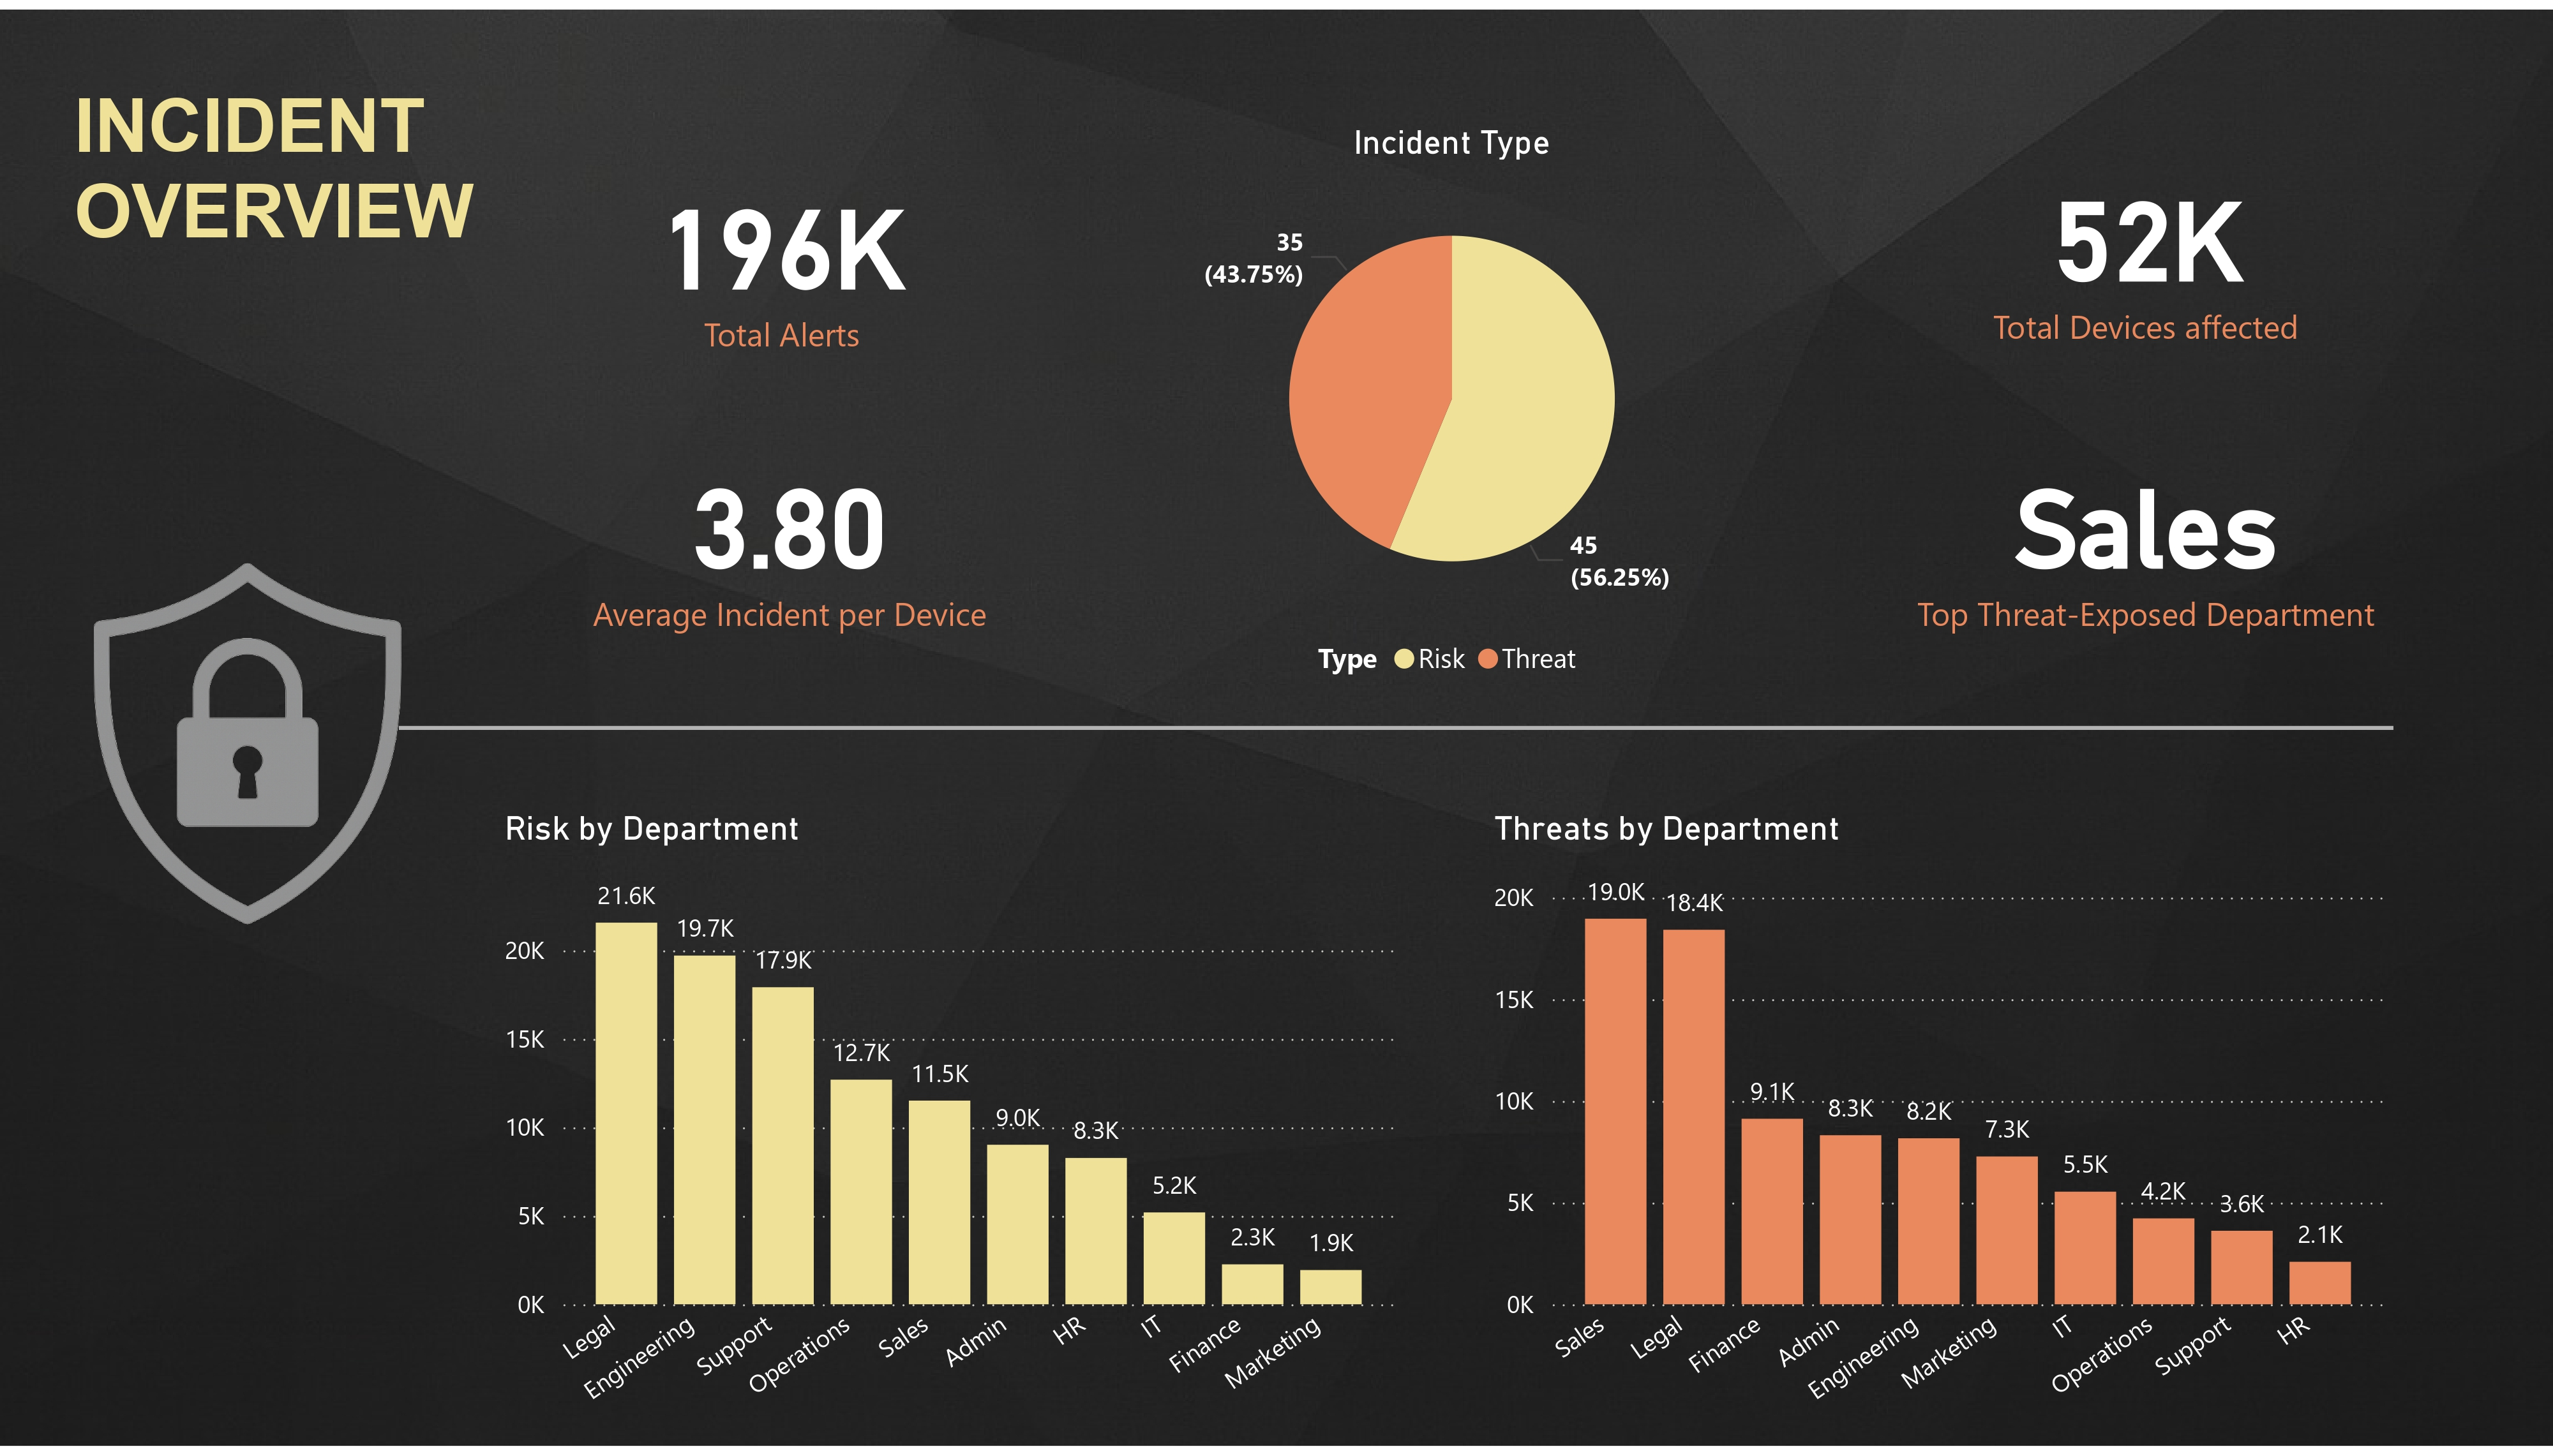

Layout of this report page (visuals, bound fields, positions):
{"tool":"powerbi","page":{"name":"Overview & KPIs","canvas":[1280,720],"ordinal":0},"visuals":[{"type":"shape","box":[200,208,1000,304],"z":0},{"type":"card","fields":{"Values":["Sum(Risk Data_Final.Unique Devices)"]},"box":[976,40,200,160],"z":1000},{"type":"card","fields":{"Values":["Key Measures.Sum_Total_Count"]},"box":[280,40,224,168],"z":2000},{"type":"card","fields":{"Values":["Key Measures.Average Incident per Devices"]},"box":[280,200,232,128],"z":3000},{"type":"card","fields":{"Values":["Key Measures.High Threat Department"]},"box":[952,184,248,160],"z":4000},{"type":"pieChart","title":"Incident Type","fields":{"Category":["Risk Data_Final.Type"],"Y":["Key Measures.Total Type Count"]},"box":[576,56,304,288],"z":5000},{"type":"clusteredColumnChart","title":"Threats by Department","fields":{"Category":["Risk Data_Final.Department"],"Y":["Key Measures.Total Threats"]},"box":[744,400,456,320],"z":6000},{"type":"textbox","box":[32,32,440,112],"z":7000},{"type":"clusteredColumnChart","title":"Risk by Department","fields":{"Category":["Risk Data_Final.Department"],"Y":["Key Measures.Total Risks"]},"box":[248,400,456,320],"z":8000},{"type":"image","box":[0,240,248,256],"z":9000}]}

Visuals, with their boxes in screenshot pixels (x1, y1, x2, y2), scaled from the page's 1280x720 canvas onto the 2553x1456 screenshot:
shape: 399 420 2393 1036
card - Sum(Risk Data_Final.Unique Devices): 1947 81 2346 405
card - Key Measures.Sum_Total_Count: 558 81 1005 420
card - Key Measures.Average Incident per Devices: 558 405 1021 664
card - Key Measures.High Threat Department: 1899 372 2393 695
"Incident Type" pieChart: 1149 113 1755 695
"Threats by Department" clusteredColumnChart: 1484 809 2393 1455
textbox: 64 64 941 291
"Risk by Department" clusteredColumnChart: 495 809 1404 1455
image: 0 486 495 1003
